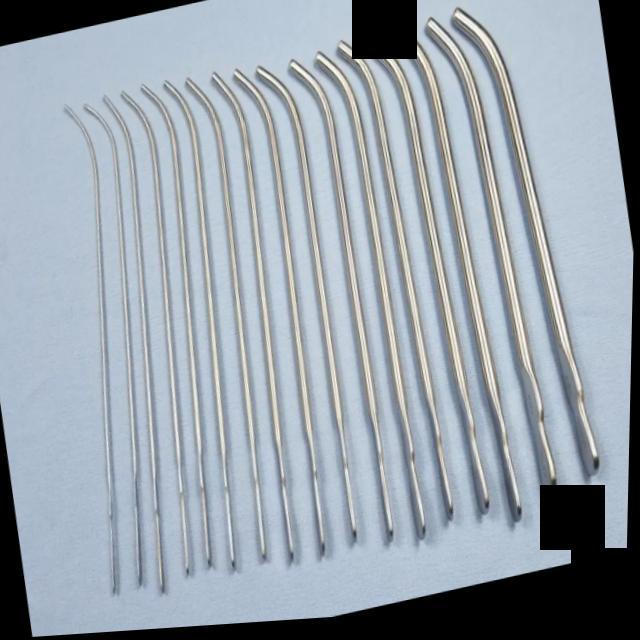Urethral Dilators: (432, 0, 620, 526), (368, 7, 545, 550), (408, 0, 586, 517), (310, 31, 480, 565), (342, 18, 510, 550), (296, 35, 456, 579), (28, 83, 180, 625), (266, 46, 422, 566), (241, 51, 388, 572), (102, 76, 236, 605), (121, 71, 254, 600), (218, 62, 350, 590), (166, 63, 297, 594), (150, 71, 276, 586), (196, 65, 320, 584), (74, 83, 190, 613)
